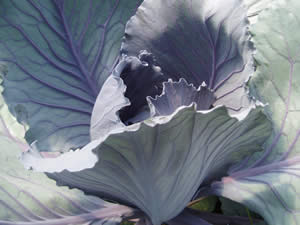cabbage: (1, 2, 299, 224)
